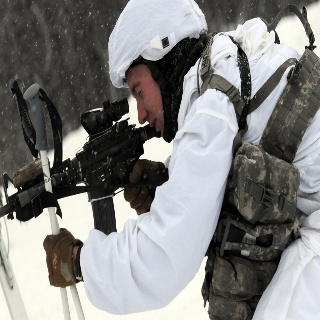rifle: (1, 97, 162, 226)
